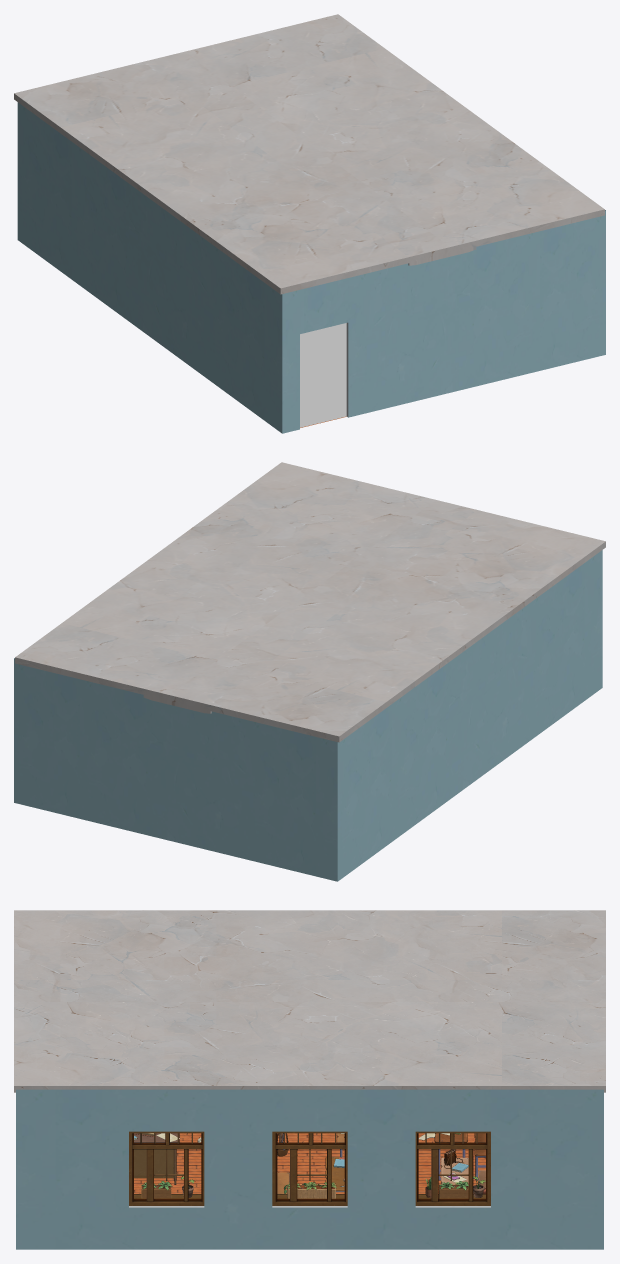
The model's file is lowpoly_stylized_classroom.glb.
3 renders of one model, top to bottom at view 1: azimuth 30°, elevation 25°; view 2: azimuth 150°, elevation 25°; view 3: azimuth 270°, elevation 25°, orthographic. The views are drawn at different scales.
Parts seen in each view (by area): view 1: Object_10, Object_30, Object_22; view 2: Object_10, Object_30; view 3: Object_10, Object_30, Object_28, Object_15, Object_26, Object_53, Object_43, Object_37, Object_54, Object_35.
Part boxes in pixels (x1=…): Object_10: x1=14, y1=14, x2=604, y2=294; Object_30: x1=17, y1=102, x2=605, y2=433; Object_22: x1=300, y1=323, x2=346, y2=427; Object_10: x1=15, y1=462, x2=605, y2=742; Object_30: x1=14, y1=550, x2=602, y2=881; Object_10: x1=14, y1=910, x2=605, y2=1092; Object_30: x1=16, y1=1089, x2=603, y2=1249; Object_28: x1=129, y1=1131, x2=490, y2=1205; Object_15: x1=134, y1=1133, x2=485, y2=1193; Object_26: x1=134, y1=1133, x2=179, y2=1184; Object_53: x1=141, y1=1181, x2=468, y2=1198; Object_43: x1=132, y1=1133, x2=486, y2=1198; Object_37: x1=435, y1=1133, x2=485, y2=1180; Object_54: x1=284, y1=1182, x2=336, y2=1198; Object_35: x1=277, y1=1133, x2=485, y2=1188.
Bounding box in the file's own units: 44.96 × 19.7 × 63.63.
43 materials, 41 textured.
